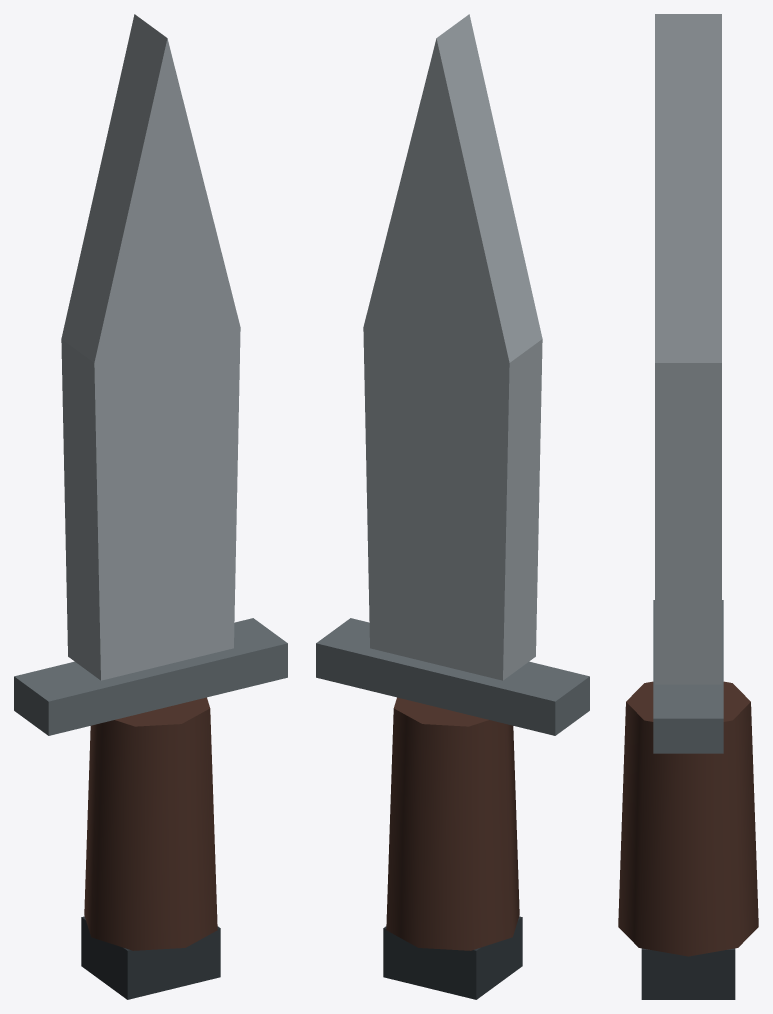
The model's file is shortsword.glb.
3 renders of one model, left to right at view 1: azimuth 30°, elevation 25°; view 2: azimuth 150°, elevation 25°; view 3: azimuth 270°, elevation 25°, orthographic.
Visible parts, largest first — view 1: shortsword-blade, shortsword-grip, shortsword-guard, shortsword-pommel; view 2: shortsword-blade, shortsword-grip, shortsword-guard, shortsword-pommel; view 3: shortsword-blade, shortsword-grip, shortsword-guard, shortsword-pommel.
Part boxes in pixels (box(x1,y1,x2,y2)): shortsword-blade: box(61, 14, 240, 680); shortsword-grip: box(84, 697, 217, 950); shortsword-guard: box(14, 618, 287, 735); shortsword-pommel: box(81, 916, 220, 999); shortsword-blade: box(363, 14, 542, 680); shortsword-grip: box(386, 697, 519, 950); shortsword-guard: box(316, 618, 589, 735); shortsword-pommel: box(383, 916, 522, 999); shortsword-blade: box(655, 14, 721, 684); shortsword-grip: box(618, 681, 758, 956); shortsword-guard: box(653, 600, 723, 753); shortsword-pommel: box(641, 948, 735, 999).
Size of the model in its own units: 0.18 by 0.68 by 0.09.
